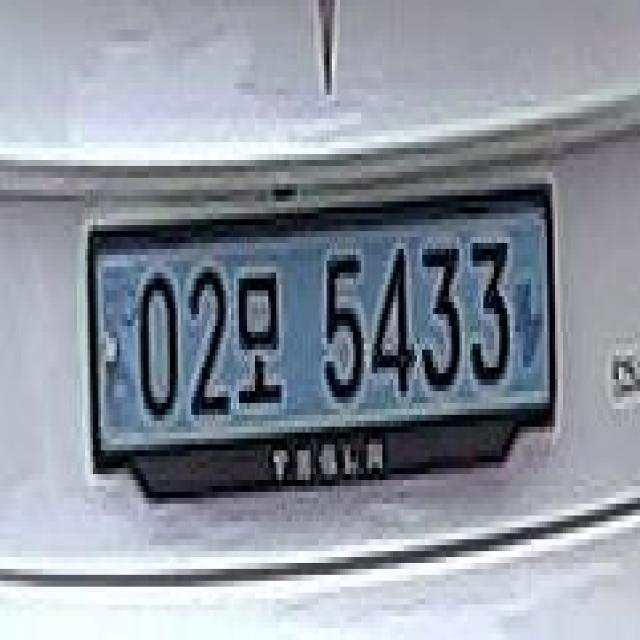EV_plate: (82, 172, 564, 504)
